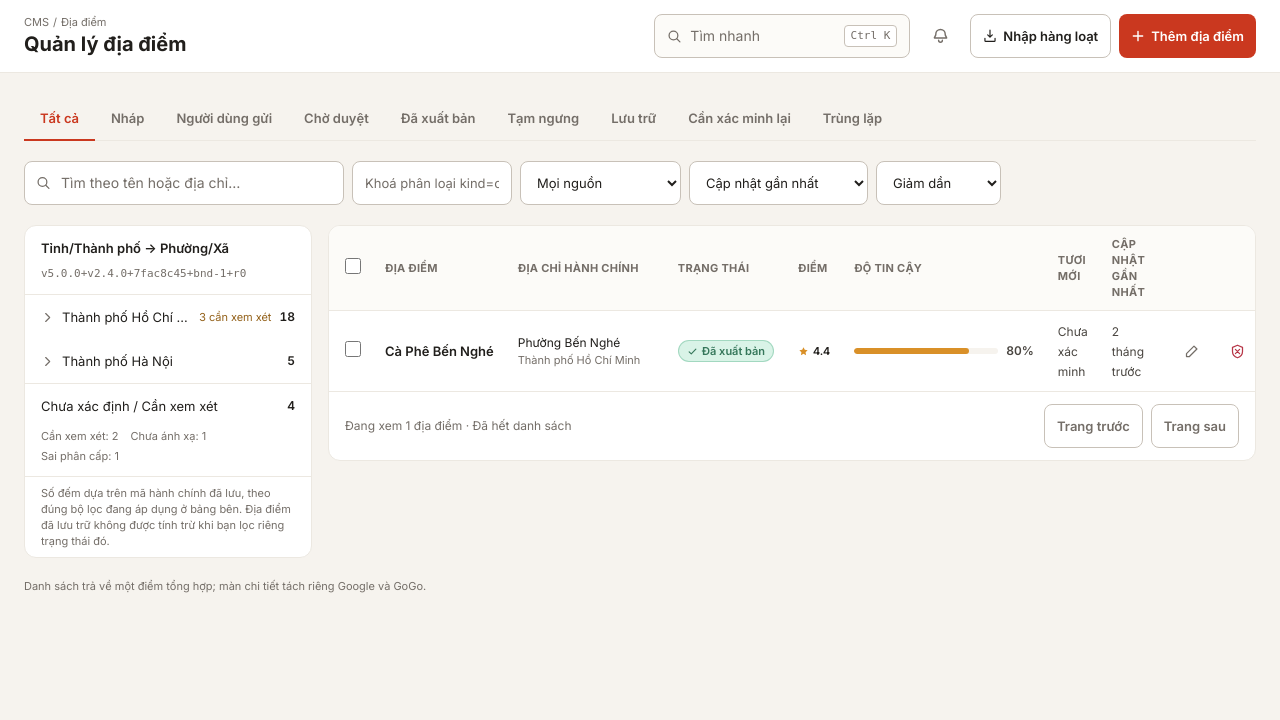
the place list, grouped by the canonical hierarchy › opens a province onto its communes, and never onto a district
Click the button "Thành phố Hồ Chí Minh 3 cần xem xét 18".
click(168, 317)  # box [25,295,311,339]
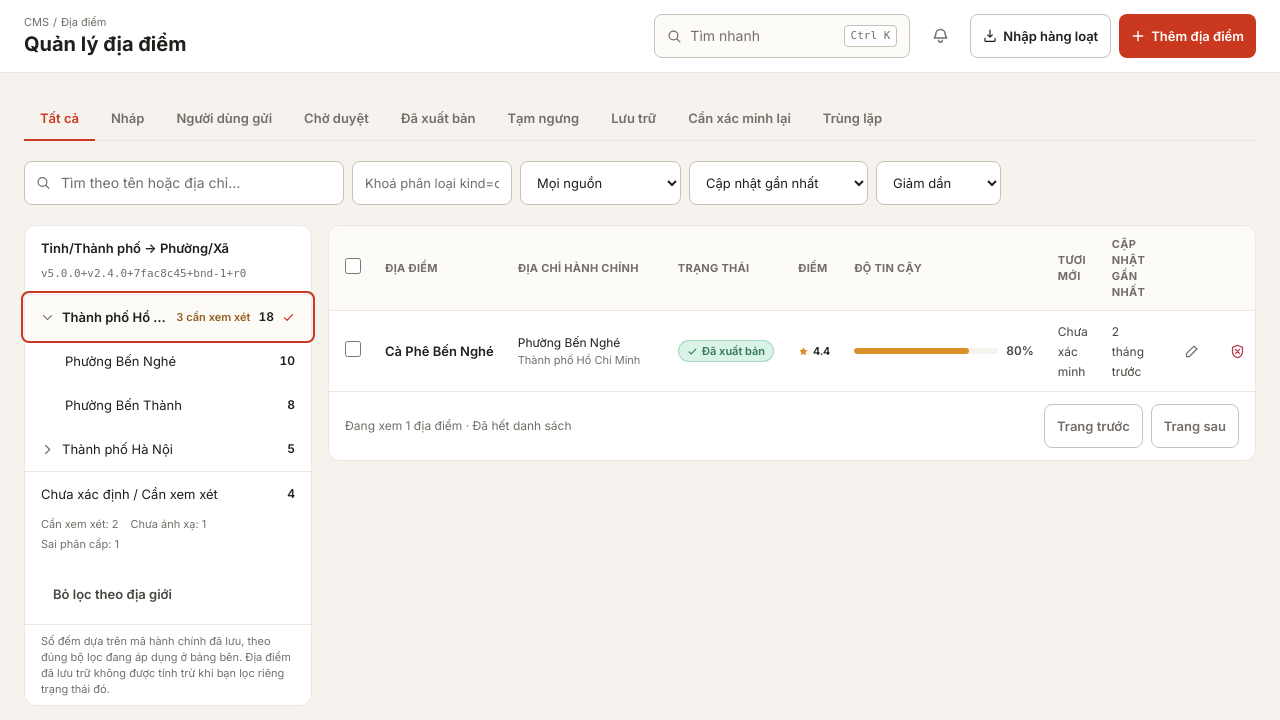
Now the button "Phường Bến Nghé 10" is shown, box [25,339,311,383]
Now the button "Phường Bến Thành 8" is shown, box [25,383,311,427]
